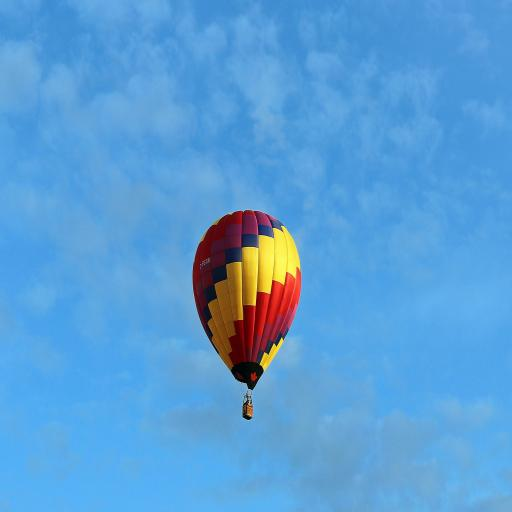hot air ballon: (190, 208, 302, 421)
